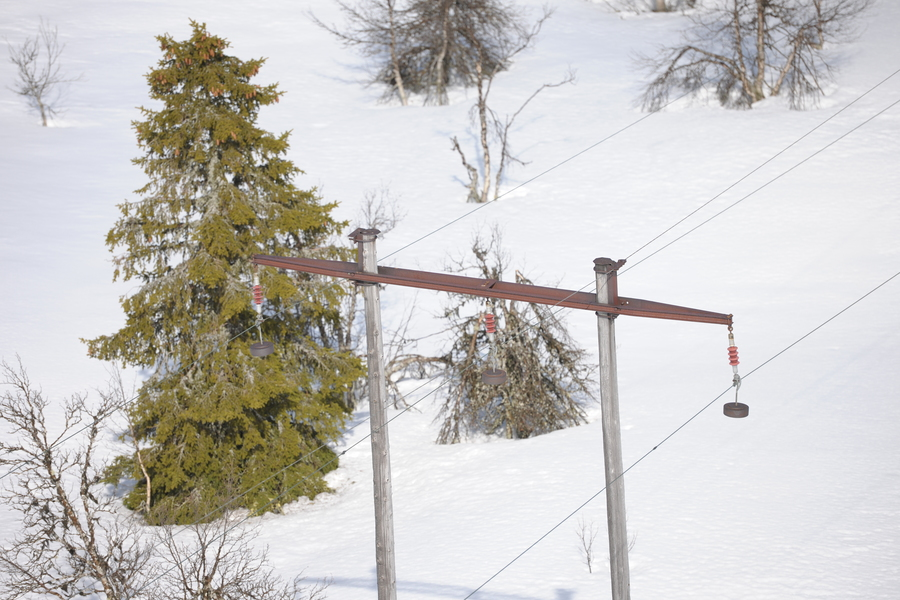crossarm: (251, 234, 732, 333)
insulator: (706, 339, 760, 394)
